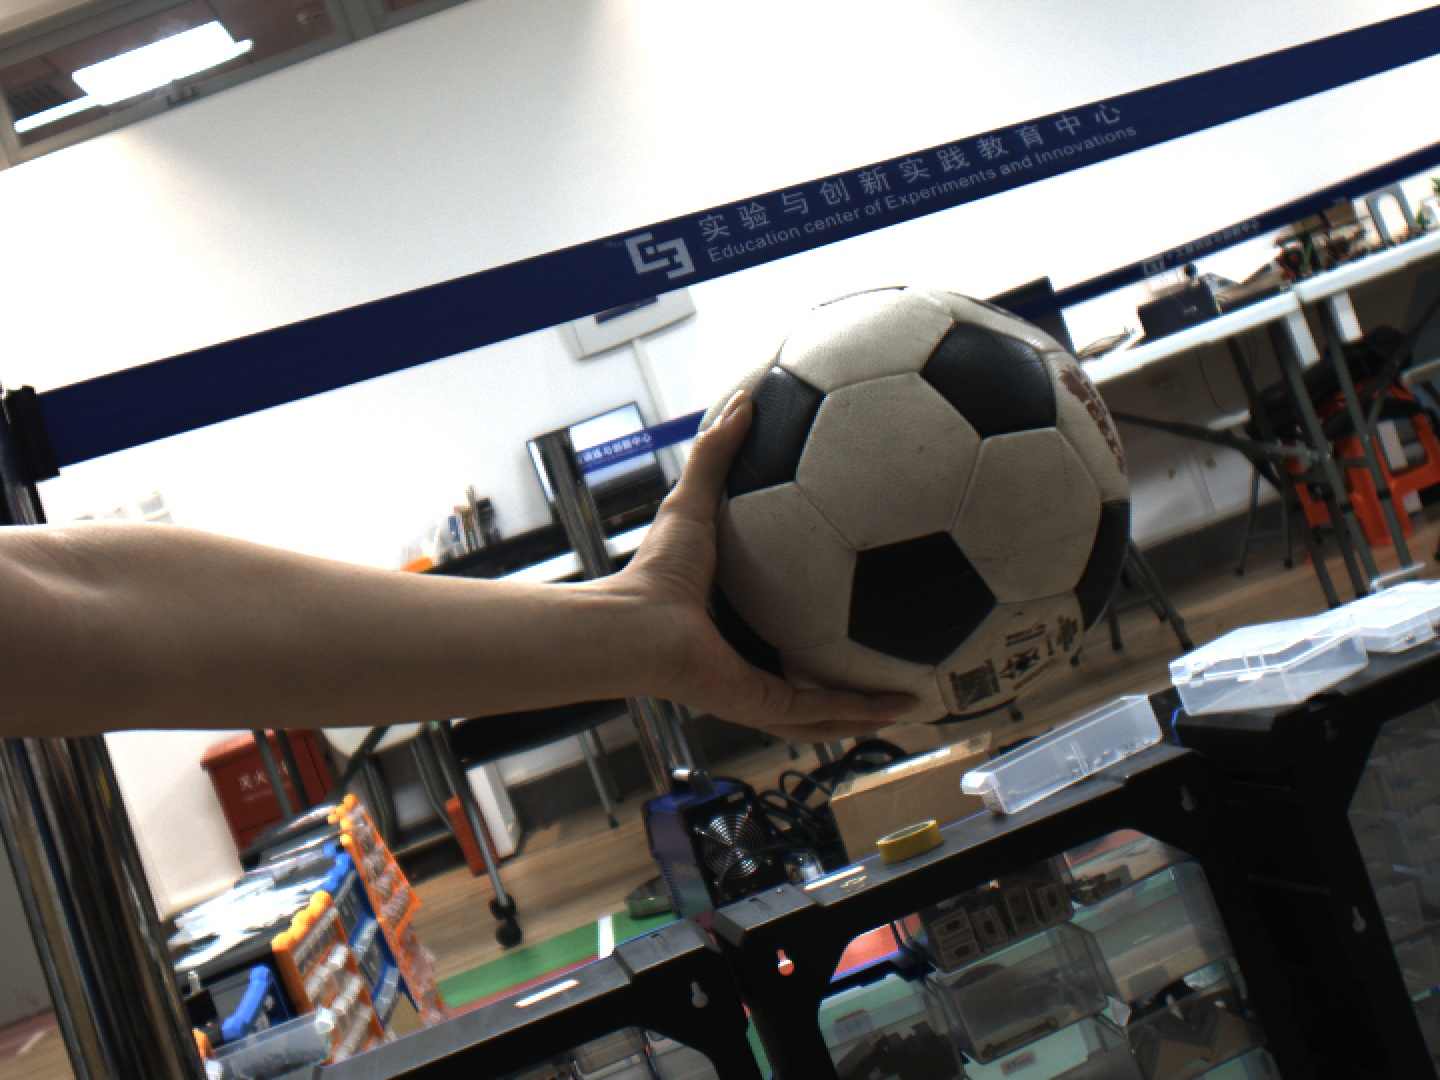ball: (664, 267, 1159, 743)
